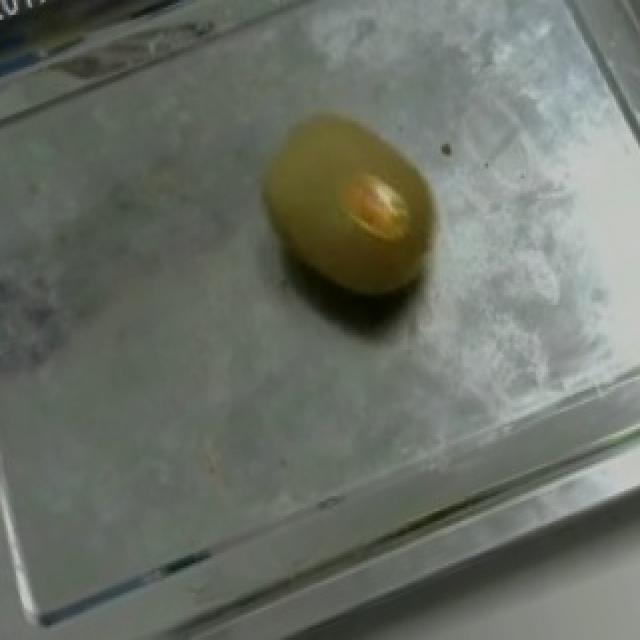Fruit: (220, 77, 480, 342)
